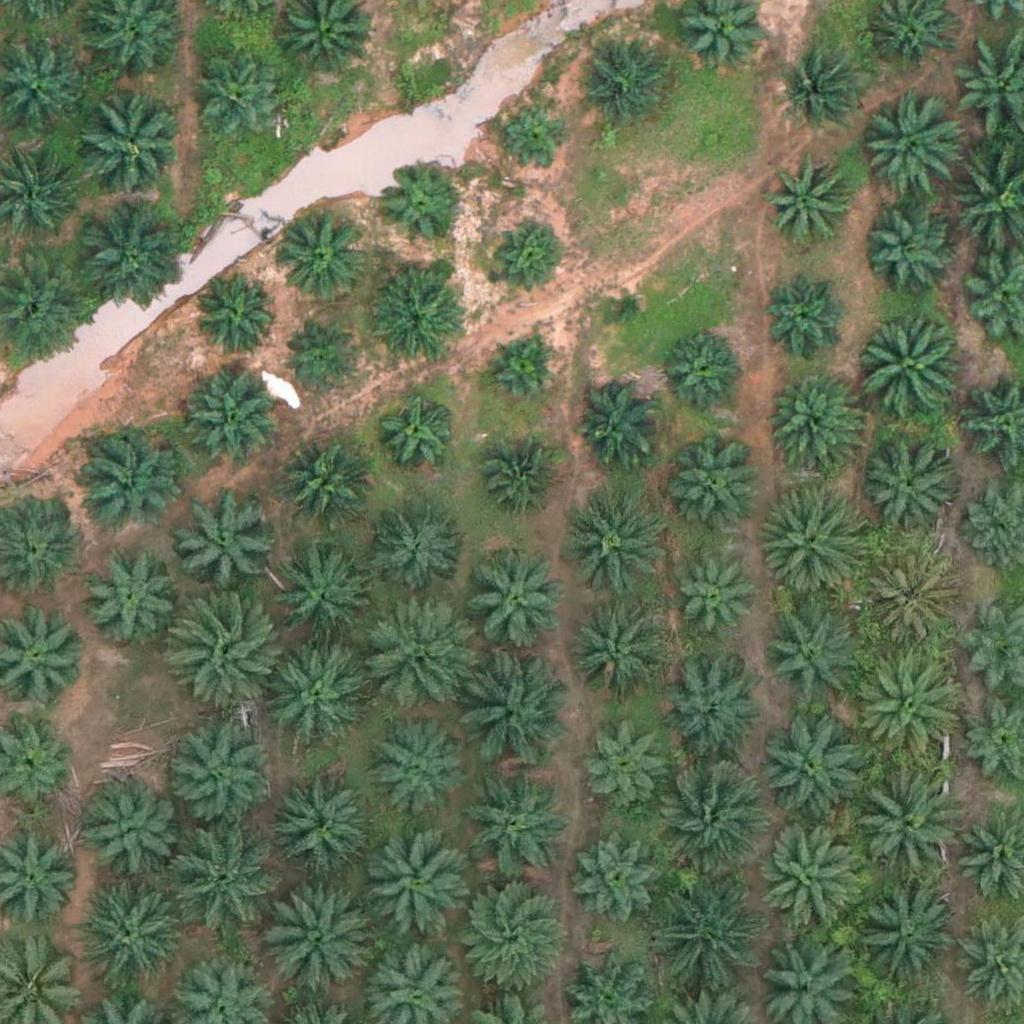Kelapa_Sawit: (359, 595, 472, 709), (67, 80, 180, 193), (451, 873, 564, 986), (358, 830, 471, 943), (69, 874, 182, 987), (652, 756, 764, 870), (649, 874, 761, 988), (456, 651, 568, 765), (71, 203, 183, 316), (759, 486, 871, 599), (851, 652, 963, 765), (264, 879, 376, 992), (168, 824, 280, 937), (162, 714, 274, 827), (169, 594, 281, 707), (865, 102, 965, 203), (859, 207, 959, 308), (859, 320, 959, 421), (858, 432, 958, 533), (363, 273, 463, 374), (765, 372, 865, 473), (666, 440, 766, 541), (464, 553, 564, 654), (176, 490, 276, 591), (74, 429, 174, 530), (855, 766, 955, 867), (857, 889, 957, 990), (763, 607, 863, 708), (761, 726, 861, 827), (661, 664, 761, 765), (365, 714, 465, 815), (264, 644, 364, 745), (268, 777, 368, 878), (79, 781, 179, 882), (862, 542, 962, 642), (575, 38, 675, 138), (564, 495, 664, 595), (179, 376, 279, 476), (78, 545, 178, 645), (763, 834, 863, 934), (571, 825, 671, 925), (567, 599, 667, 699), (462, 776, 562, 876), (367, 496, 467, 596), (274, 551, 374, 651), (196, 50, 284, 138), (762, 273, 850, 361), (669, 560, 757, 648), (575, 378, 663, 466), (583, 720, 671, 808), (768, 157, 855, 246), (781, 48, 868, 136), (380, 161, 467, 249), (279, 441, 366, 529), (475, 442, 562, 530), (659, 319, 746, 407), (274, 210, 361, 298), (192, 273, 279, 361), (377, 395, 452, 471), (483, 335, 558, 411), (489, 218, 564, 294), (500, 98, 575, 174), (287, 326, 362, 401), (600, 279, 650, 329)
